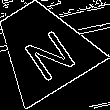N_NW: (10, 15, 75, 79)
